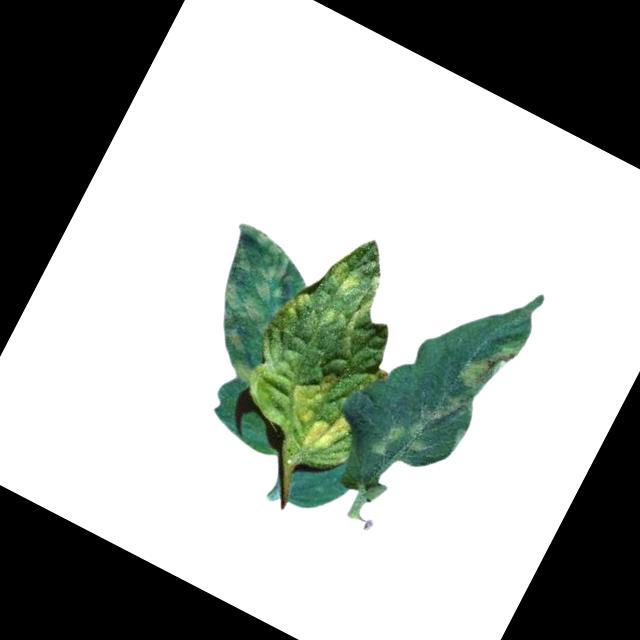Leaf_Mold: (179, 219, 316, 383), (453, 325, 525, 406), (299, 401, 365, 471), (280, 356, 338, 427), (366, 415, 411, 466), (326, 257, 364, 296)
